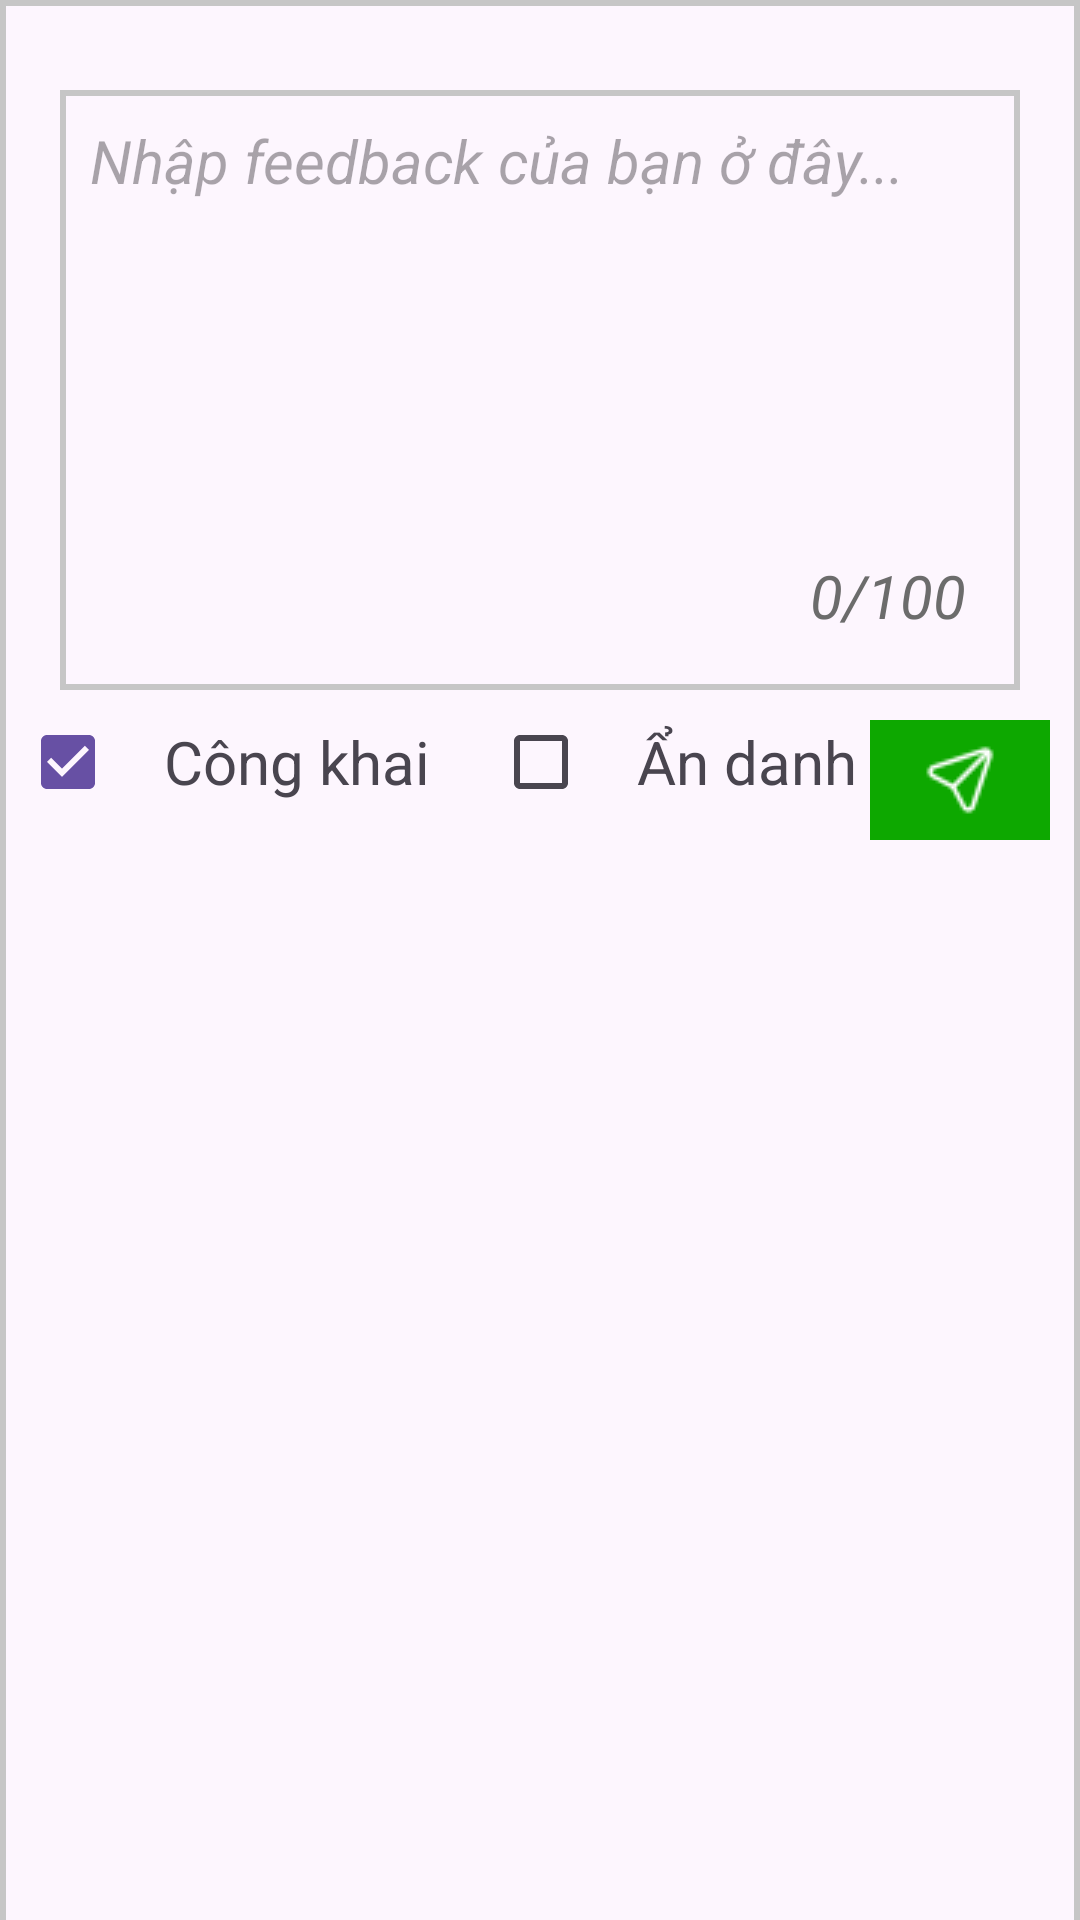

Named icons in this screenshot (1080x1920) and their centers, (x,y):
send: (960,780)
